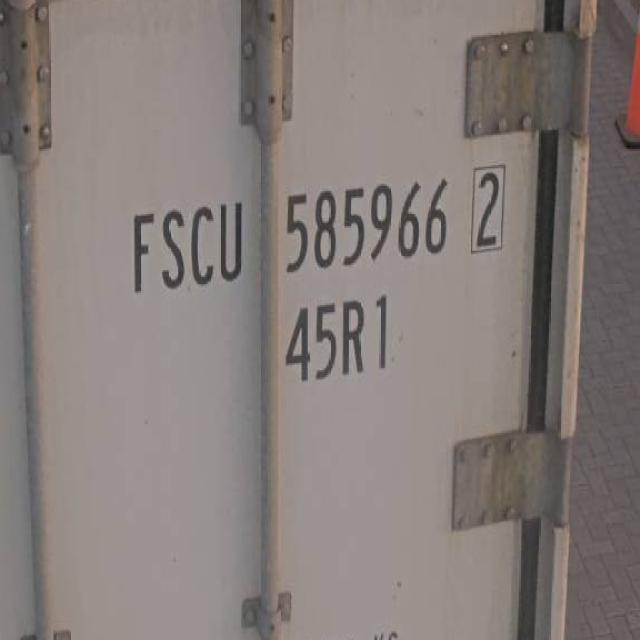dv: (466, 159, 516, 255)
owner: (124, 193, 252, 300)
serial: (278, 170, 460, 271)
size: (275, 286, 395, 394)
